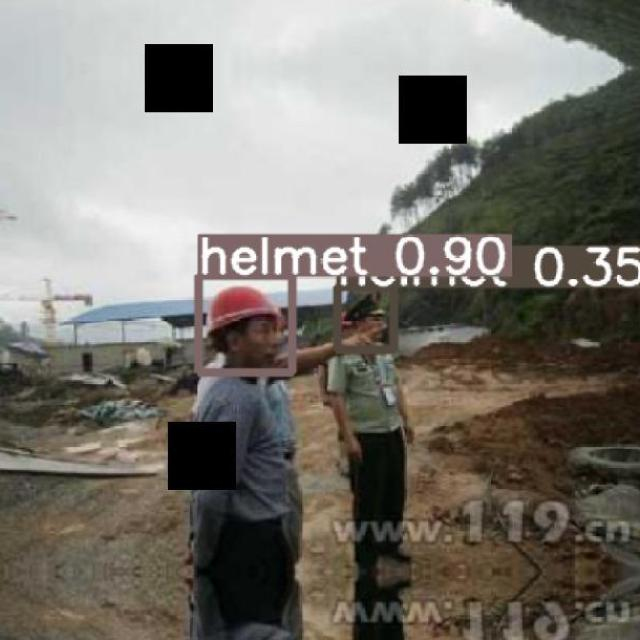helmet: (206, 285, 280, 335), (341, 292, 386, 324)
